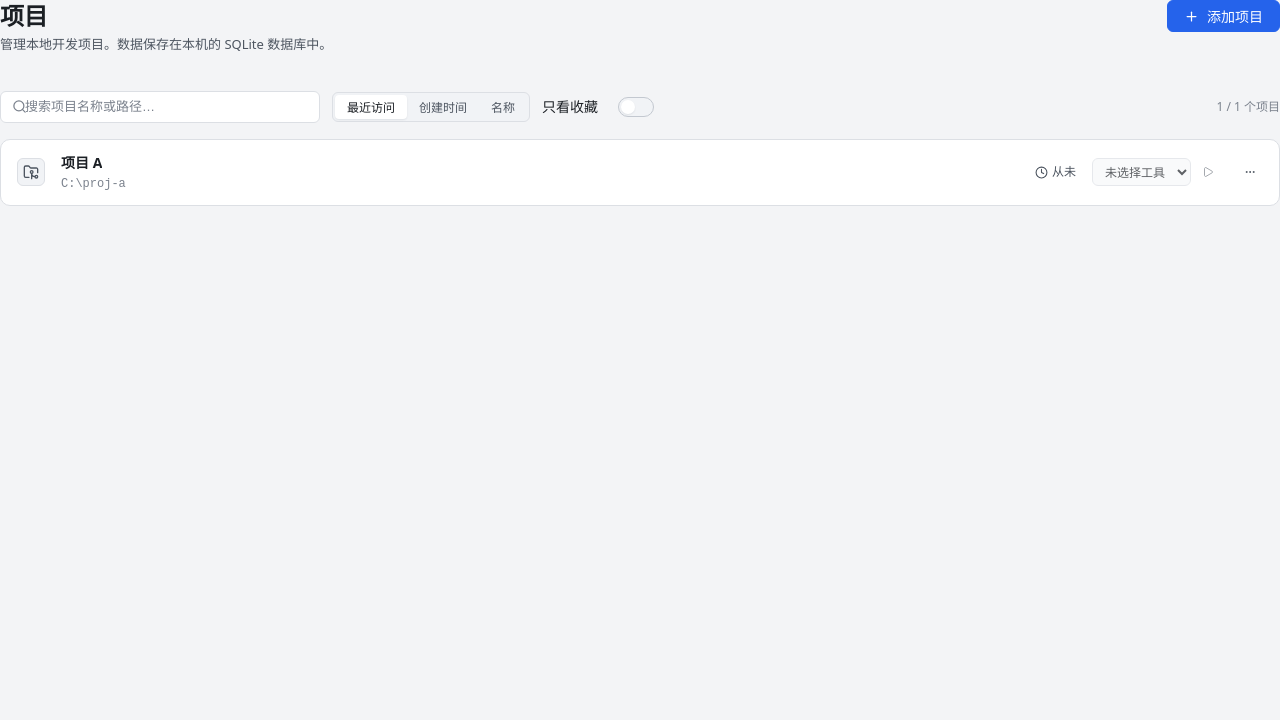
Test: 项目详情：居中模态弹窗 › Esc 与遮罩点击关闭弹窗，点击弹窗内部不关闭
Step 1. Click the button with aria-label "查看项目详情：项目 A" → (82, 162), box [61,152,1019,193]
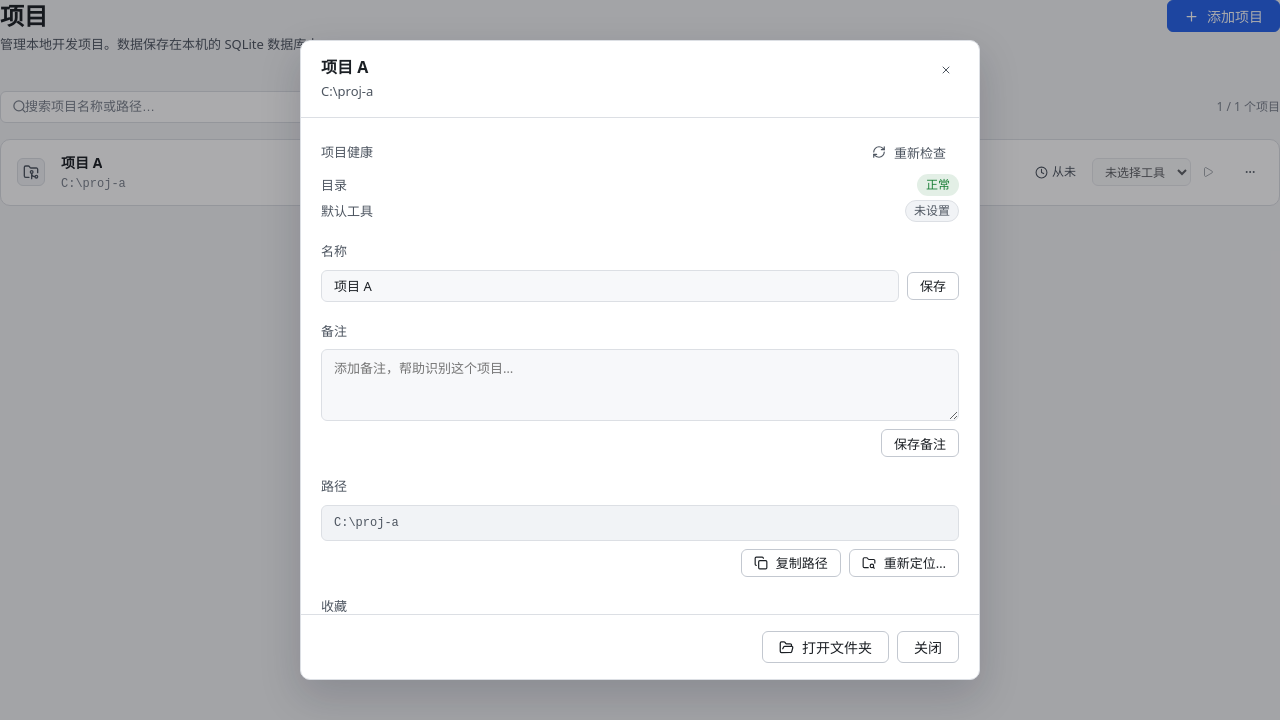
Step 2. Press Escape in the dialog, box [300,40,980,680]
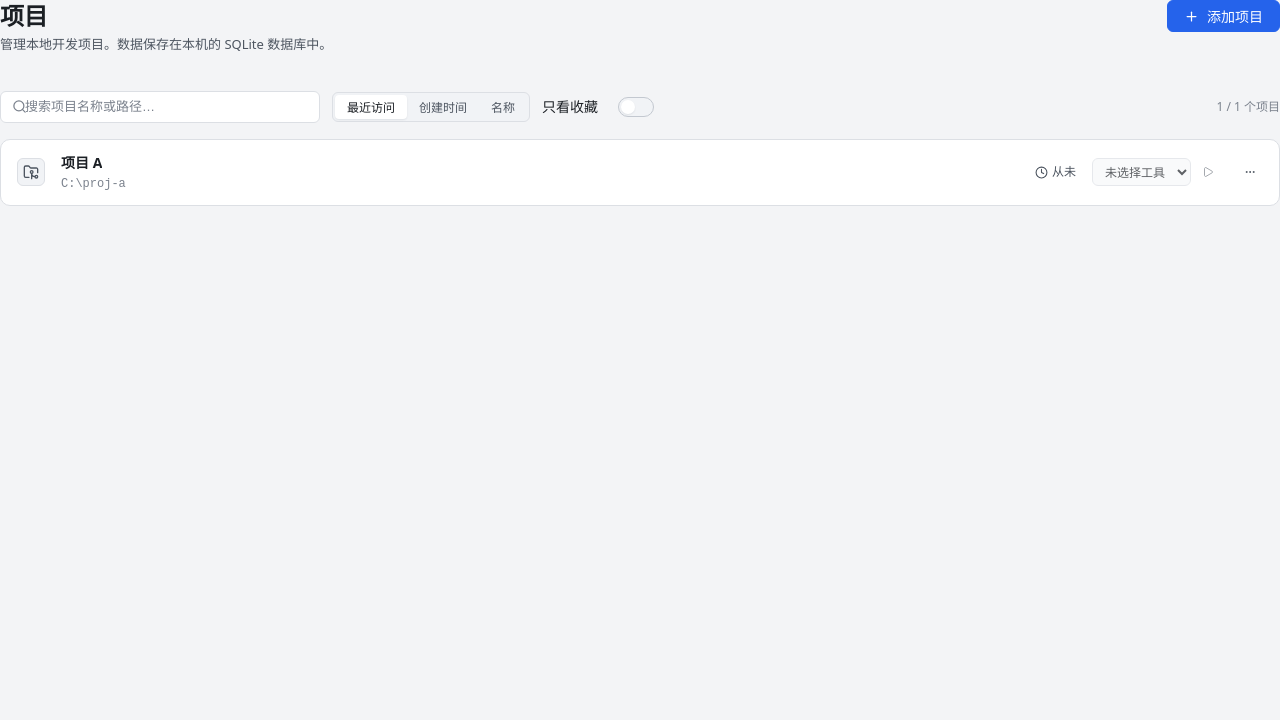
Expected: the dialog is gone
Step 3. Click the button with aria-label "查看项目详情：项目 A" → (82, 162), box [61,152,1019,193]
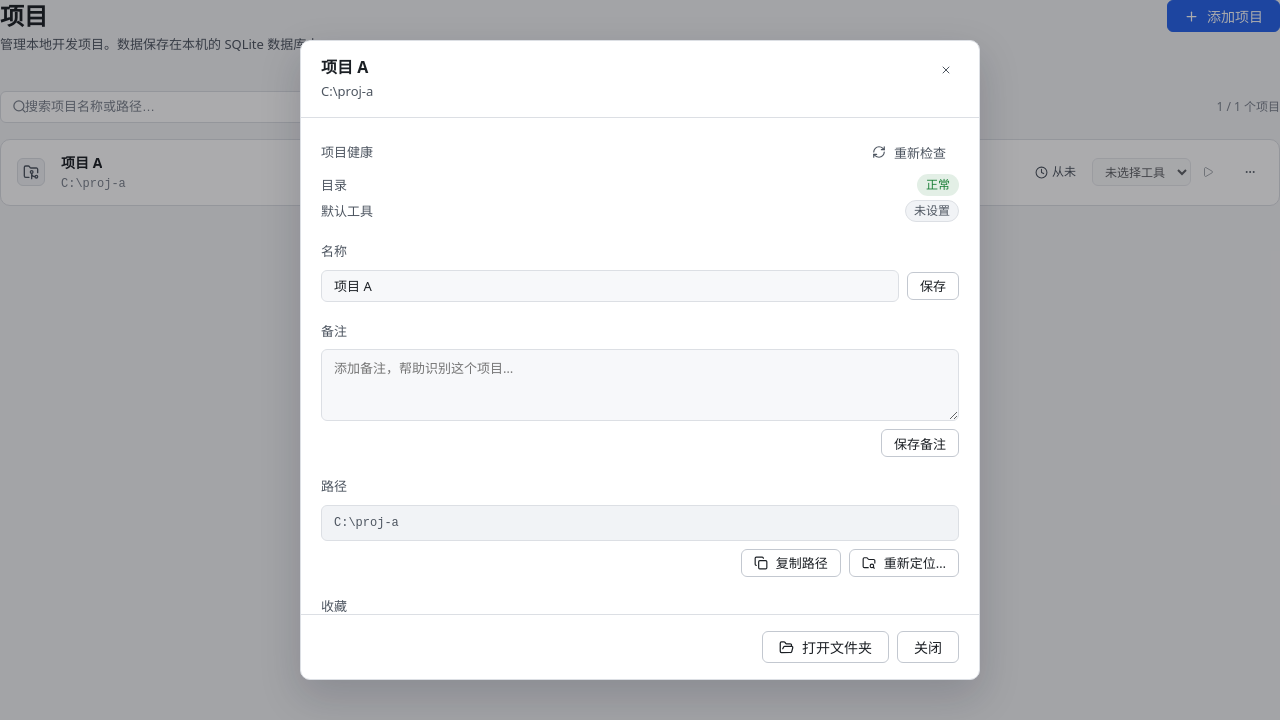
Step 4. Press the mouse on the dialog → (640, 360), box [300,40,980,680]
Expected: the dialog is shown, [300,40,980,680]
Step 5. Press the mouse on the element that starts with "项目 A" → (640, 360), box [0,0,1279,719]
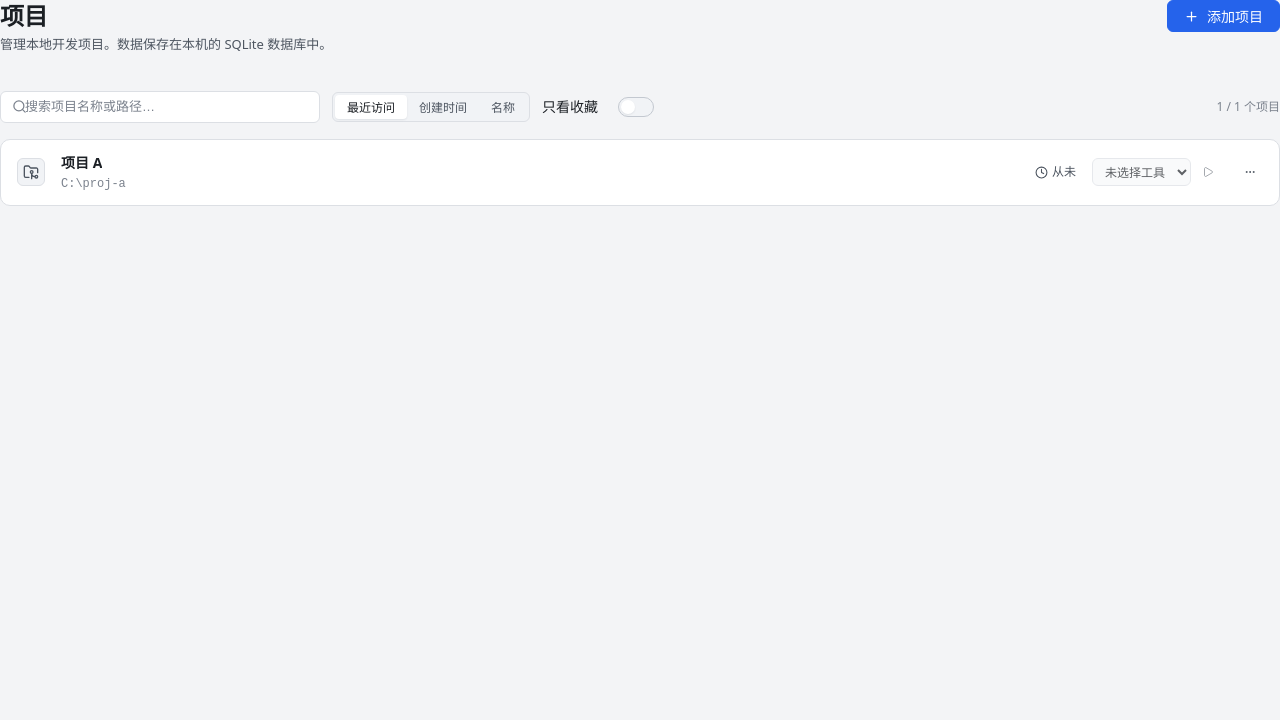
Expected: the dialog is gone
